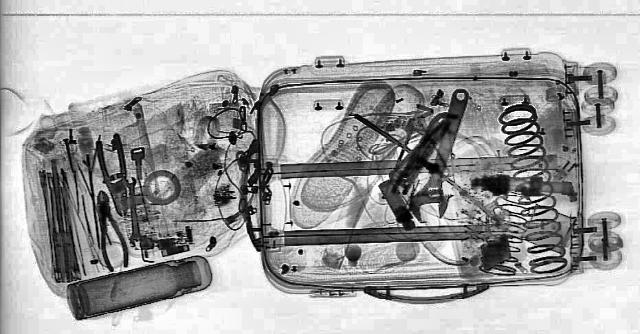Pliers: (84, 189, 134, 271), (92, 134, 136, 216)
Wrench: (400, 86, 482, 224), (122, 176, 140, 244)
